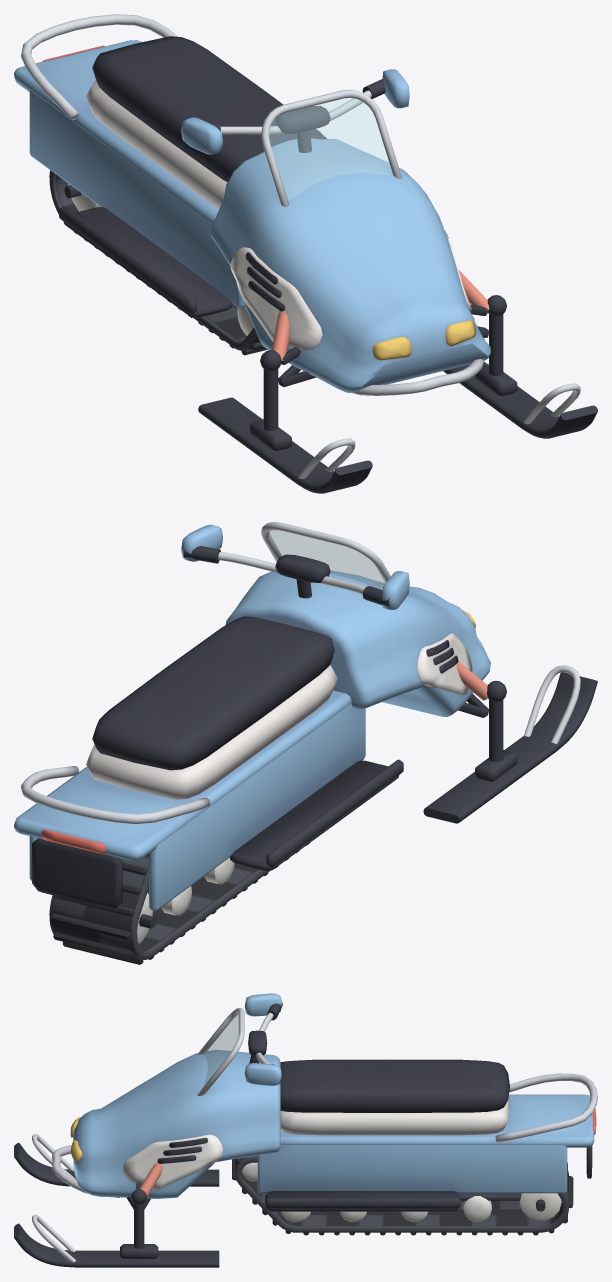
Rendered from snowmobile.glb.
3 views of the same model, one above another, from view 1: azimuth 30°, elevation 25°; view 2: azimuth 150°, elevation 25°; view 3: azimuth 270°, elevation 25° (orthographic). The views are drawn at different scales.
Visible parts, largest first — view 1: snowmobile_body, snowmobile_windows, snowmobile_ski_r, snowmobile_ski_l, snowmobile_handlebar, snowmobile_track; view 2: snowmobile_body, snowmobile_track, snowmobile_ski_r, snowmobile_handlebar, snowmobile_windows; view 3: snowmobile_body, snowmobile_track, snowmobile_ski_l, snowmobile_handlebar, snowmobile_ski_r, snowmobile_windows.
Boxes of the visible parts, box(x1,y1,x2,y2) form: snowmobile_body: box(14, 14, 490, 395); snowmobile_windows: box(269, 98, 392, 200); snowmobile_ski_r: box(198, 350, 372, 493); snowmobile_ski_l: box(443, 295, 597, 438); snowmobile_handlebar: box(181, 69, 409, 154); snowmobile_track: box(49, 170, 267, 355); snowmobile_body: box(14, 522, 490, 943); snowmobile_track: box(49, 843, 309, 964); snowmobile_ski_r: box(423, 665, 597, 823); snowmobile_handlebar: box(181, 524, 409, 609); snowmobile_windows: box(269, 530, 384, 589); snowmobile_body: box(52, 1007, 597, 1221); snowmobile_track: box(232, 1155, 573, 1235); snowmobile_ski_l: box(14, 1189, 219, 1267); snowmobile_handlebar: box(244, 993, 282, 1085); snowmobile_ski_r: box(14, 1134, 219, 1186); snowmobile_windows: box(202, 1013, 238, 1085).
Size of the model in its own units: 1.17 by 1.16 by 3.05.
Materials: 13 (2 with a texture image).
